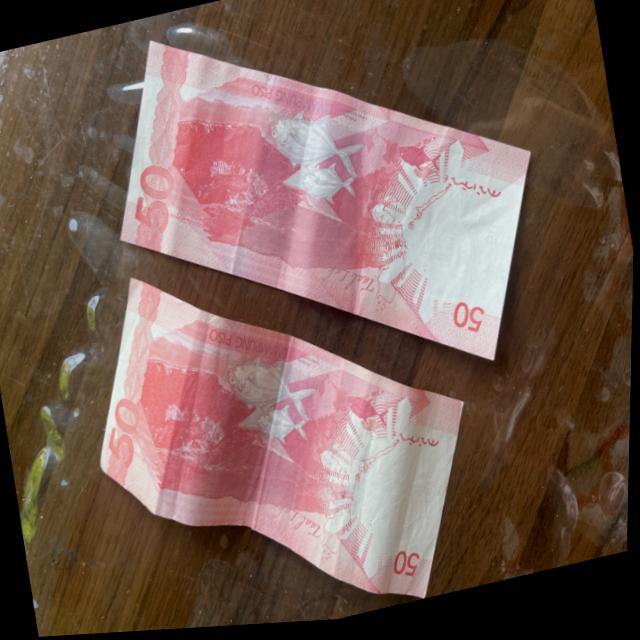50_maliputo: (214, 335, 329, 477), (253, 104, 372, 220)
50_maliputo_watermark: (340, 384, 400, 453), (391, 128, 451, 197)
watermark: (411, 191, 511, 311)
